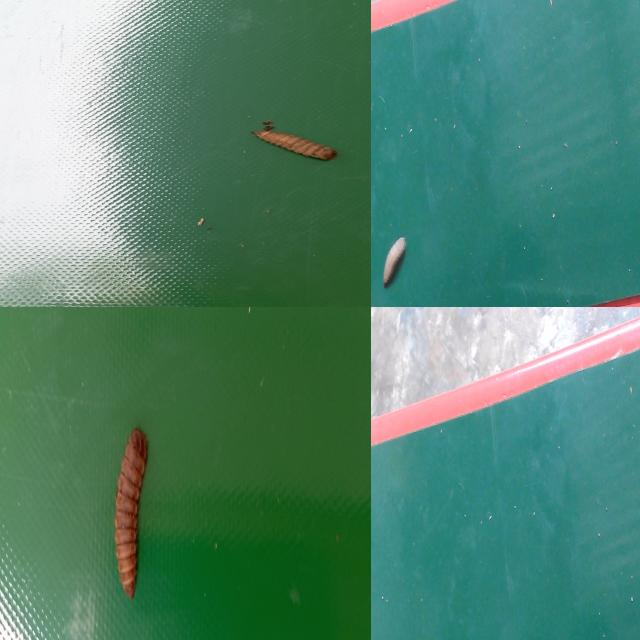Maggot: (115, 429, 150, 599), (253, 122, 337, 164), (380, 239, 406, 289)
